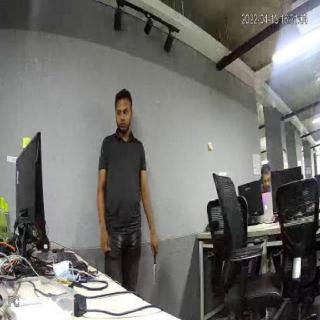knife: (152, 248, 160, 290)
